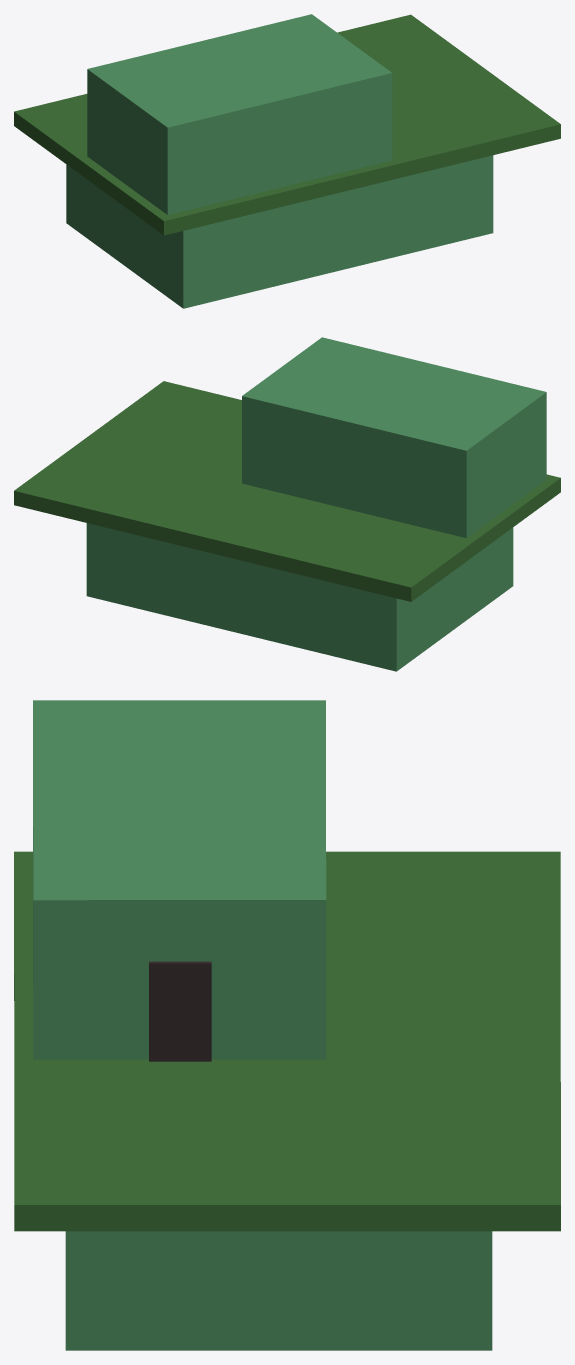
The model's file is Casa_Verde.fbx.
The picture shows the model from 3 angles, top to bottom: view 1: azimuth 30°, elevation 25°; view 2: azimuth 150°, elevation 25°; view 3: azimuth 270°, elevation 25°; orthographic projection. The views are drawn at different scales.
Parts seen in each view (by area): view 1: Cube.004, Cube.002, Cube.003; view 2: Cube.004, Cube.003, Cube.002; view 3: Cube.003, Cube.004, Cube.002, Door_2.001.
Part boxes in pixels (x1=…): Cube.004: x1=87, y1=14, x2=392, y2=214; Cube.002: x1=66, y1=155, x2=493, y2=308; Cube.003: x1=14, y1=14, x2=560, y2=235; Cube.004: x1=242, y1=337, x2=546, y2=538; Cube.003: x1=14, y1=381, x2=560, y2=601; Cube.002: x1=86, y1=523, x2=513, y2=671; Cube.003: x1=14, y1=851, x2=560, y2=1231; Cube.004: x1=33, y1=700, x2=326, y2=1059; Cube.002: x1=65, y1=1231, x2=492, y2=1350; Door_2.001: x1=149, y1=961, x2=211, y2=1061.
Bounding box in the file's own units: 4651 × 3041 × 2165.
